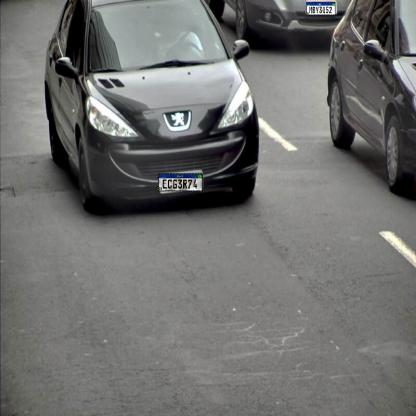PlacaM: (158, 174, 203, 192), (306, 2, 336, 15)
